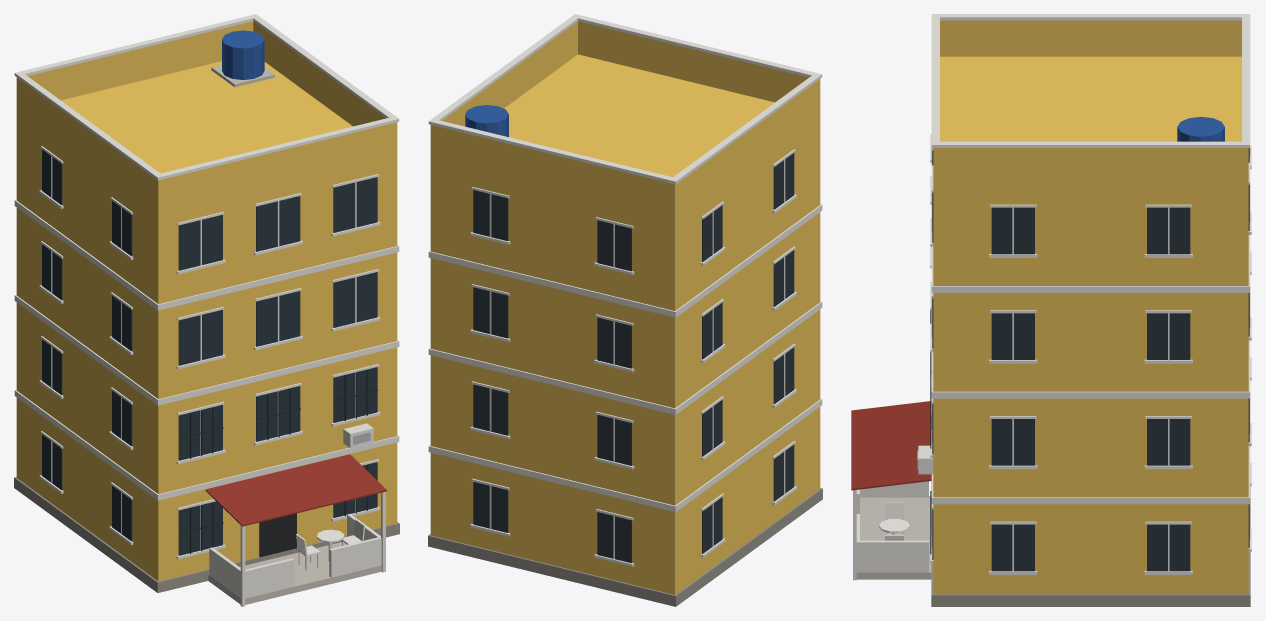
Rendered from BAY_F_Tower_O.glb.
The picture shows the model from 3 angles, left to right: view 1: azimuth 30°, elevation 25°; view 2: azimuth 150°, elevation 25°; view 3: azimuth 270°, elevation 25°; orthographic projection. The views are drawn at different scales.
Parts seen in each view (by area): view 1: BAY_F_Tower_O; view 2: BAY_F_Tower_O; view 3: BAY_F_Tower_O.
Part boxes in pixels (box(x1,y1,x2,y2)): BAY_F_Tower_O: box(14, 14, 399, 606); BAY_F_Tower_O: box(428, 14, 822, 606); BAY_F_Tower_O: box(851, 14, 1251, 606).
Bounding box in the file's own units: 7.24 × 11.8 × 9.27.
Materials: 1 (1 with a texture image).
